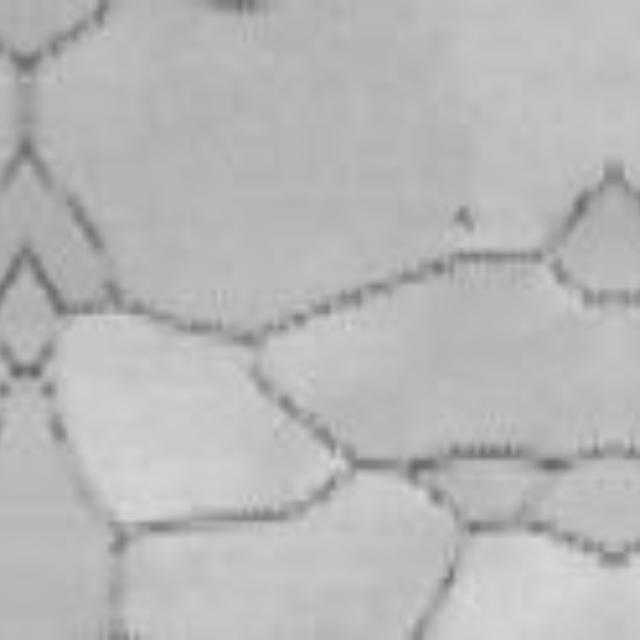good_void: (453, 206, 469, 232)
